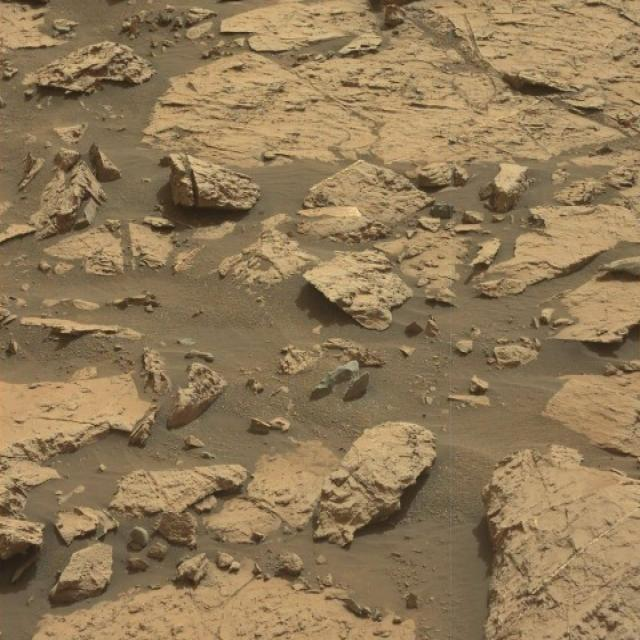rock: (312, 417, 440, 547), (165, 150, 262, 220), (48, 539, 114, 604), (486, 162, 531, 210)
